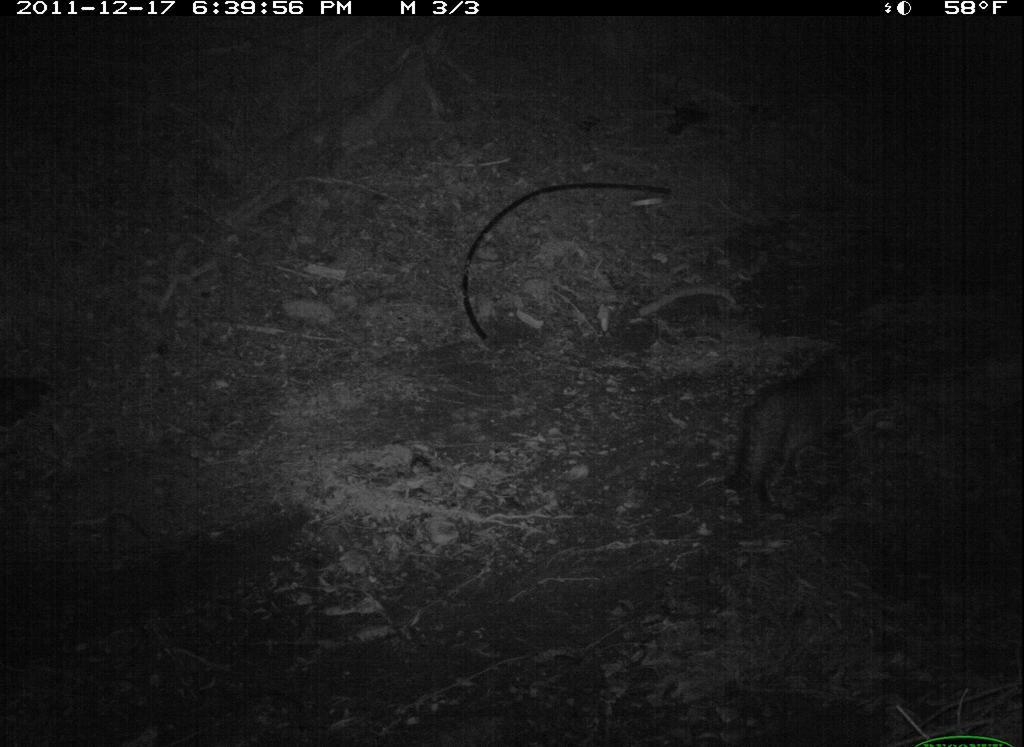cat: (719, 336, 877, 515)
